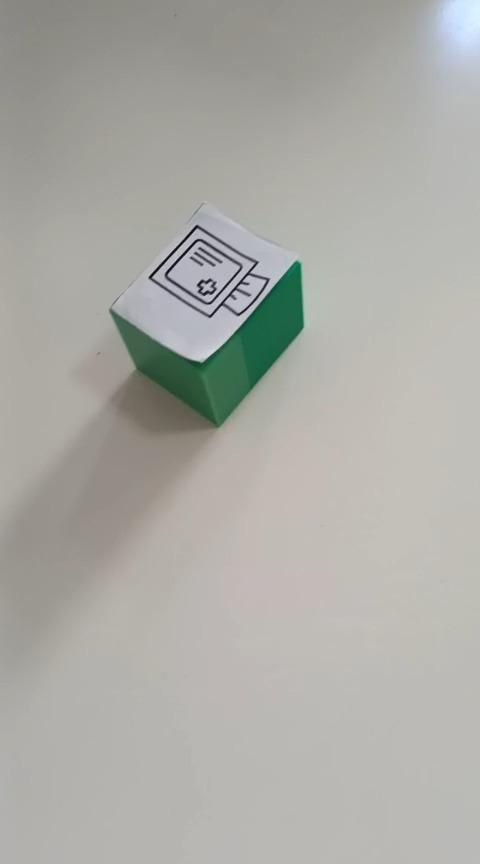Gauze: (108, 199, 305, 428)
